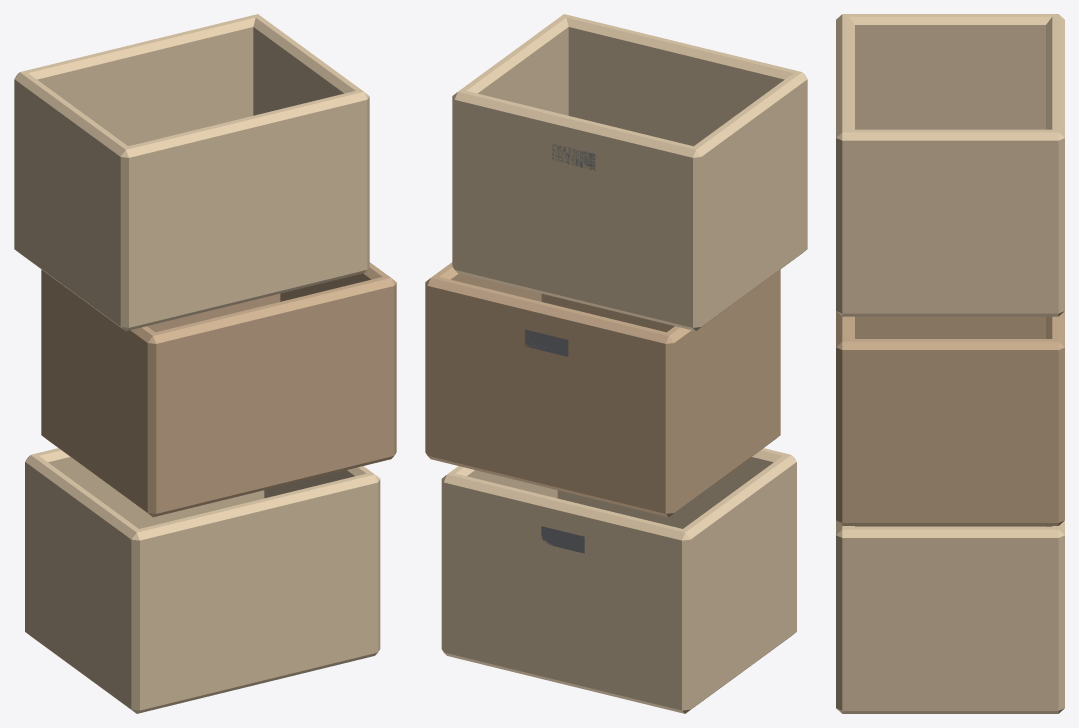
The model's file is StackableCrates_x3.glb.
The picture shows the model from 3 angles, left to right: view 1: azimuth 30°, elevation 25°; view 2: azimuth 150°, elevation 25°; view 3: azimuth 270°, elevation 25°; orthographic projection.
Visible parts, largest first — view 1: SpaceSaver_StackableCrates_x3; view 2: SpaceSaver_StackableCrates_x3; view 3: SpaceSaver_StackableCrates_x3.
Part boxes in pixels (x1,y1,x2,y2): SpaceSaver_StackableCrates_x3: [14, 14, 396, 713]; SpaceSaver_StackableCrates_x3: [425, 14, 807, 713]; SpaceSaver_StackableCrates_x3: [836, 14, 1064, 713].
Bounding box in the file's own units: 0.51 × 1 × 0.36.
